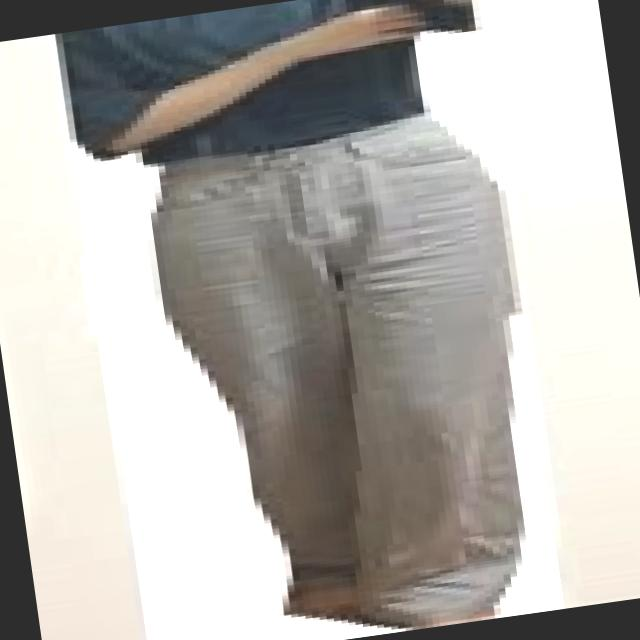denimpants: (152, 115, 557, 640)
shortsleeve: (55, 0, 480, 169)
